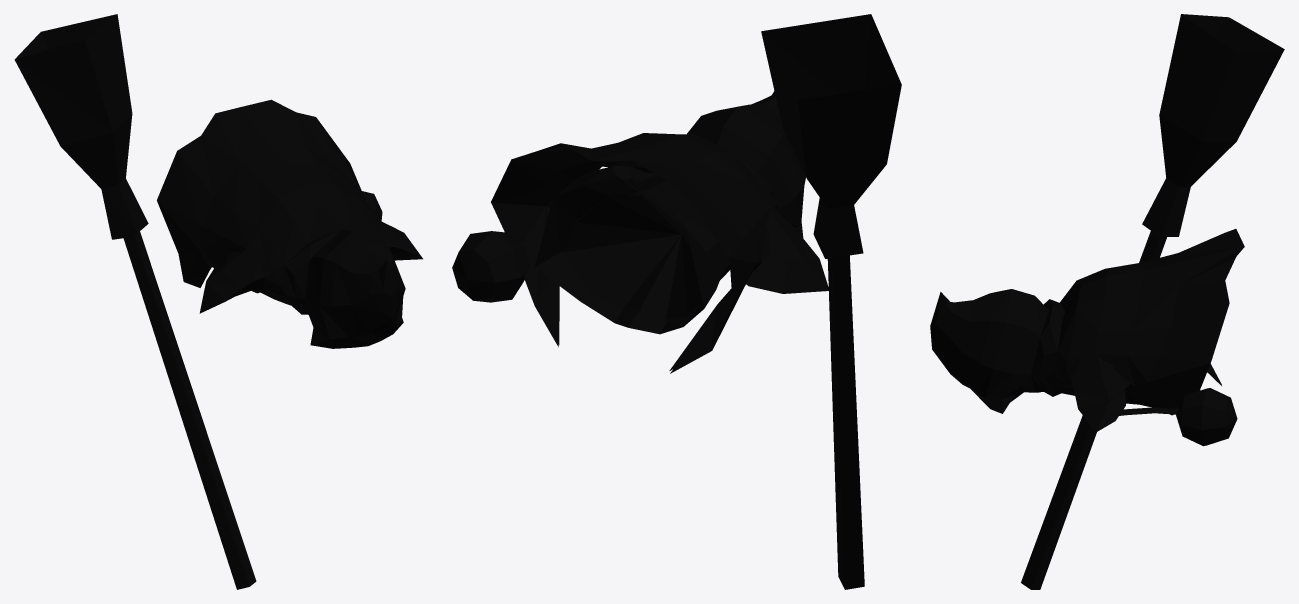
Rendered from pet_sishen_1.obj.
3 views of the same model, side by side, from view 1: azimuth 30°, elevation 25°; view 2: azimuth 150°, elevation 25°; view 3: azimuth 270°, elevation 25° (orthographic). The views are drawn at different scales.
Parts seen in each view (by area): view 1: Pet_Sishen_1, Object01; view 2: Pet_Sishen_1, Object01; view 3: Pet_Sishen_1, Object01.
Part boxes in pixels (left/top/right/bottom): Pet_Sishen_1: left=157, top=99, right=422, bottom=348; Object01: left=14, top=14, right=256, bottom=589; Pet_Sishen_1: left=452, top=91, right=828, bottom=373; Object01: left=761, top=14, right=901, bottom=589; Pet_Sishen_1: left=930, top=229, right=1244, bottom=446; Object01: left=1021, top=14, right=1284, bottom=589.
Size of the model in its own units: 81.95 by 114 by 69.14.
1 material, 1 textured.
